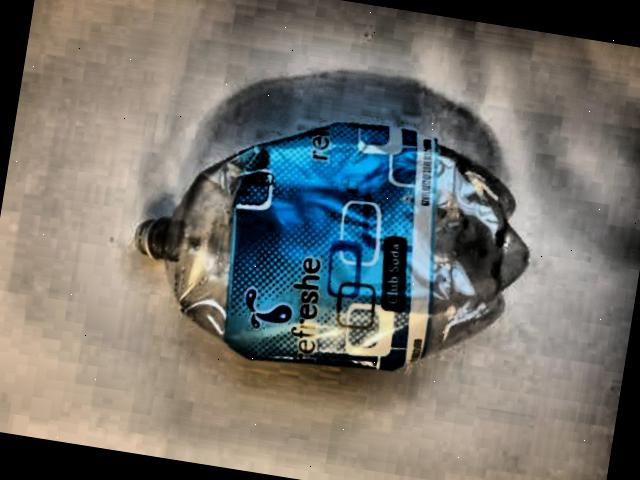Bottles: (104, 75, 562, 419)
